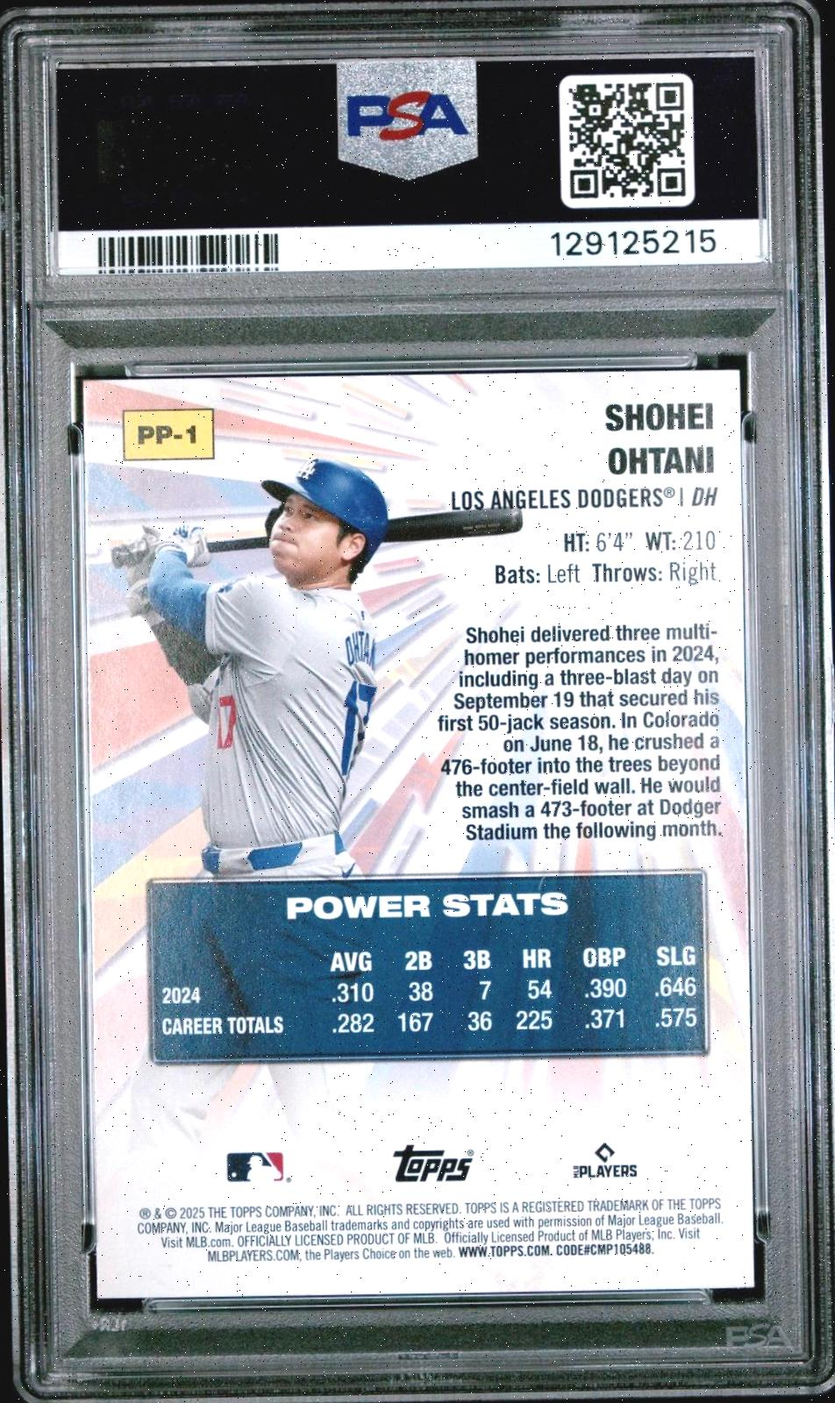card-2UtV: (82, 369, 755, 1300)
